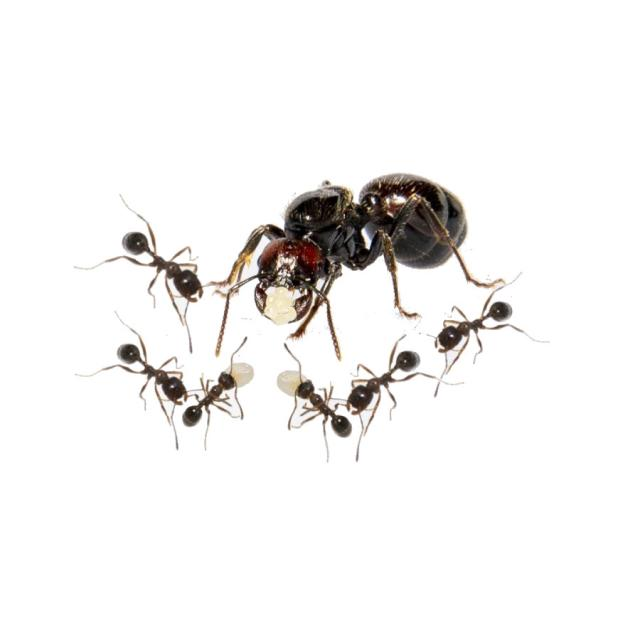ants: (208, 164, 483, 327), (108, 209, 222, 309), (333, 336, 435, 433), (422, 286, 530, 377), (284, 356, 368, 455), (108, 326, 192, 414), (179, 363, 246, 429)
